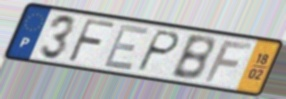3: (40, 14, 79, 61)
B: (167, 34, 215, 83)
E: (100, 23, 152, 73)
F: (65, 16, 118, 65), (202, 39, 255, 84)
P: (133, 28, 183, 74)
